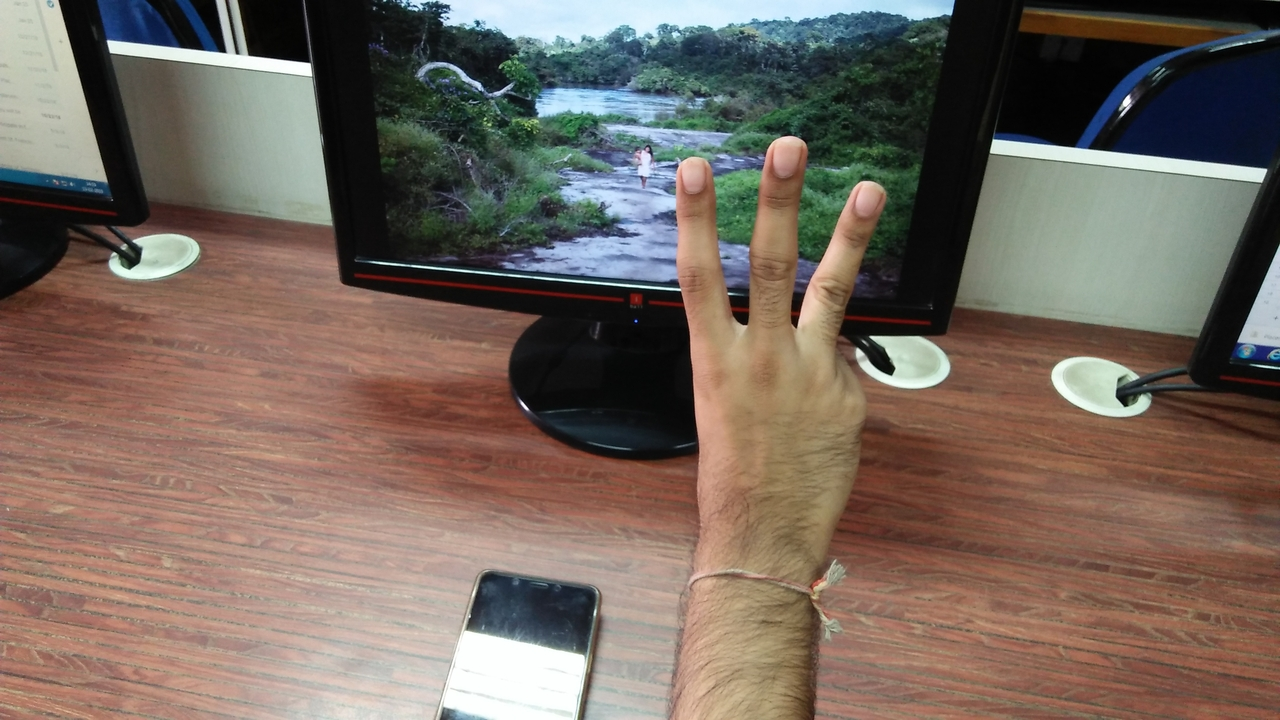fingertip: (758, 126, 816, 178), (838, 166, 890, 222), (672, 148, 720, 198)
